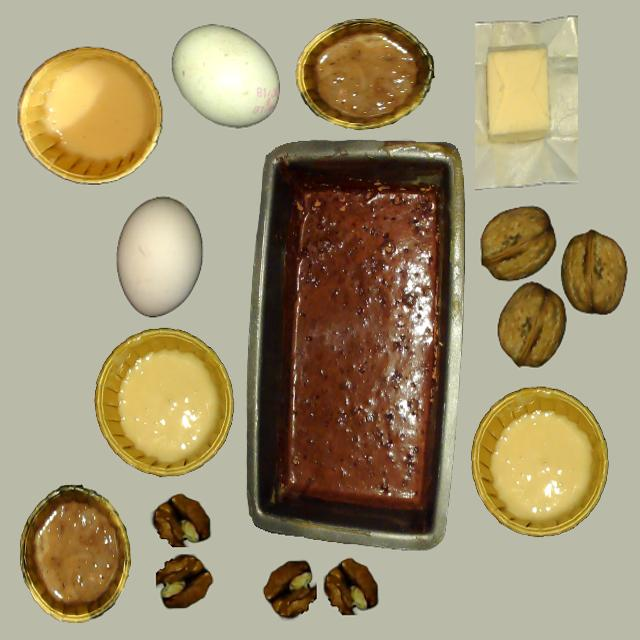Walnut: (498, 284, 566, 368), (480, 207, 556, 281), (562, 233, 626, 313)
